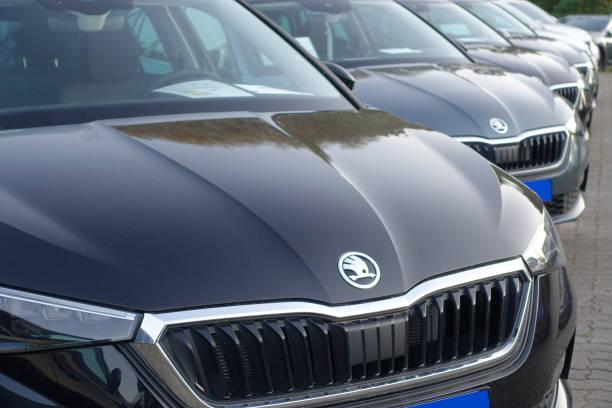skoda: (334, 247, 388, 292), (486, 114, 516, 138)
